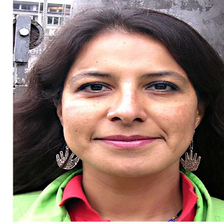no_mask: (62, 37, 198, 169)
